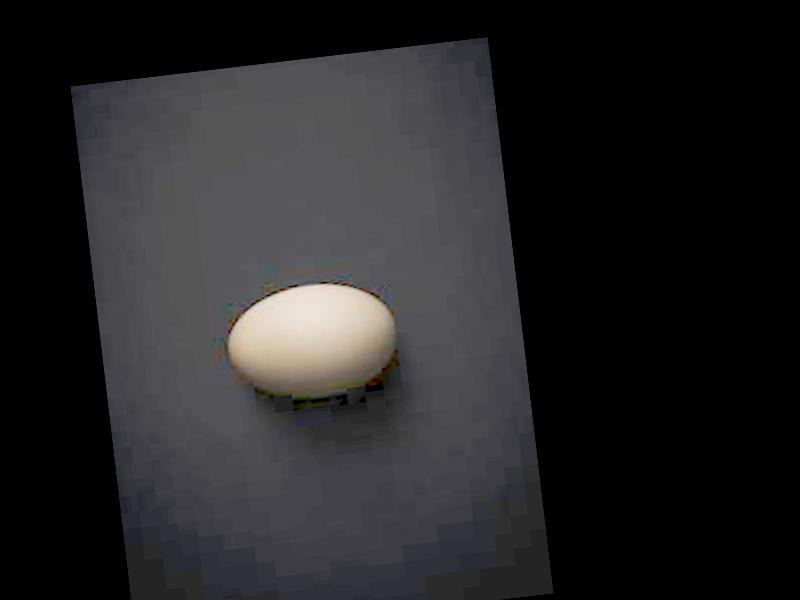Eggs: (218, 275, 404, 403)
